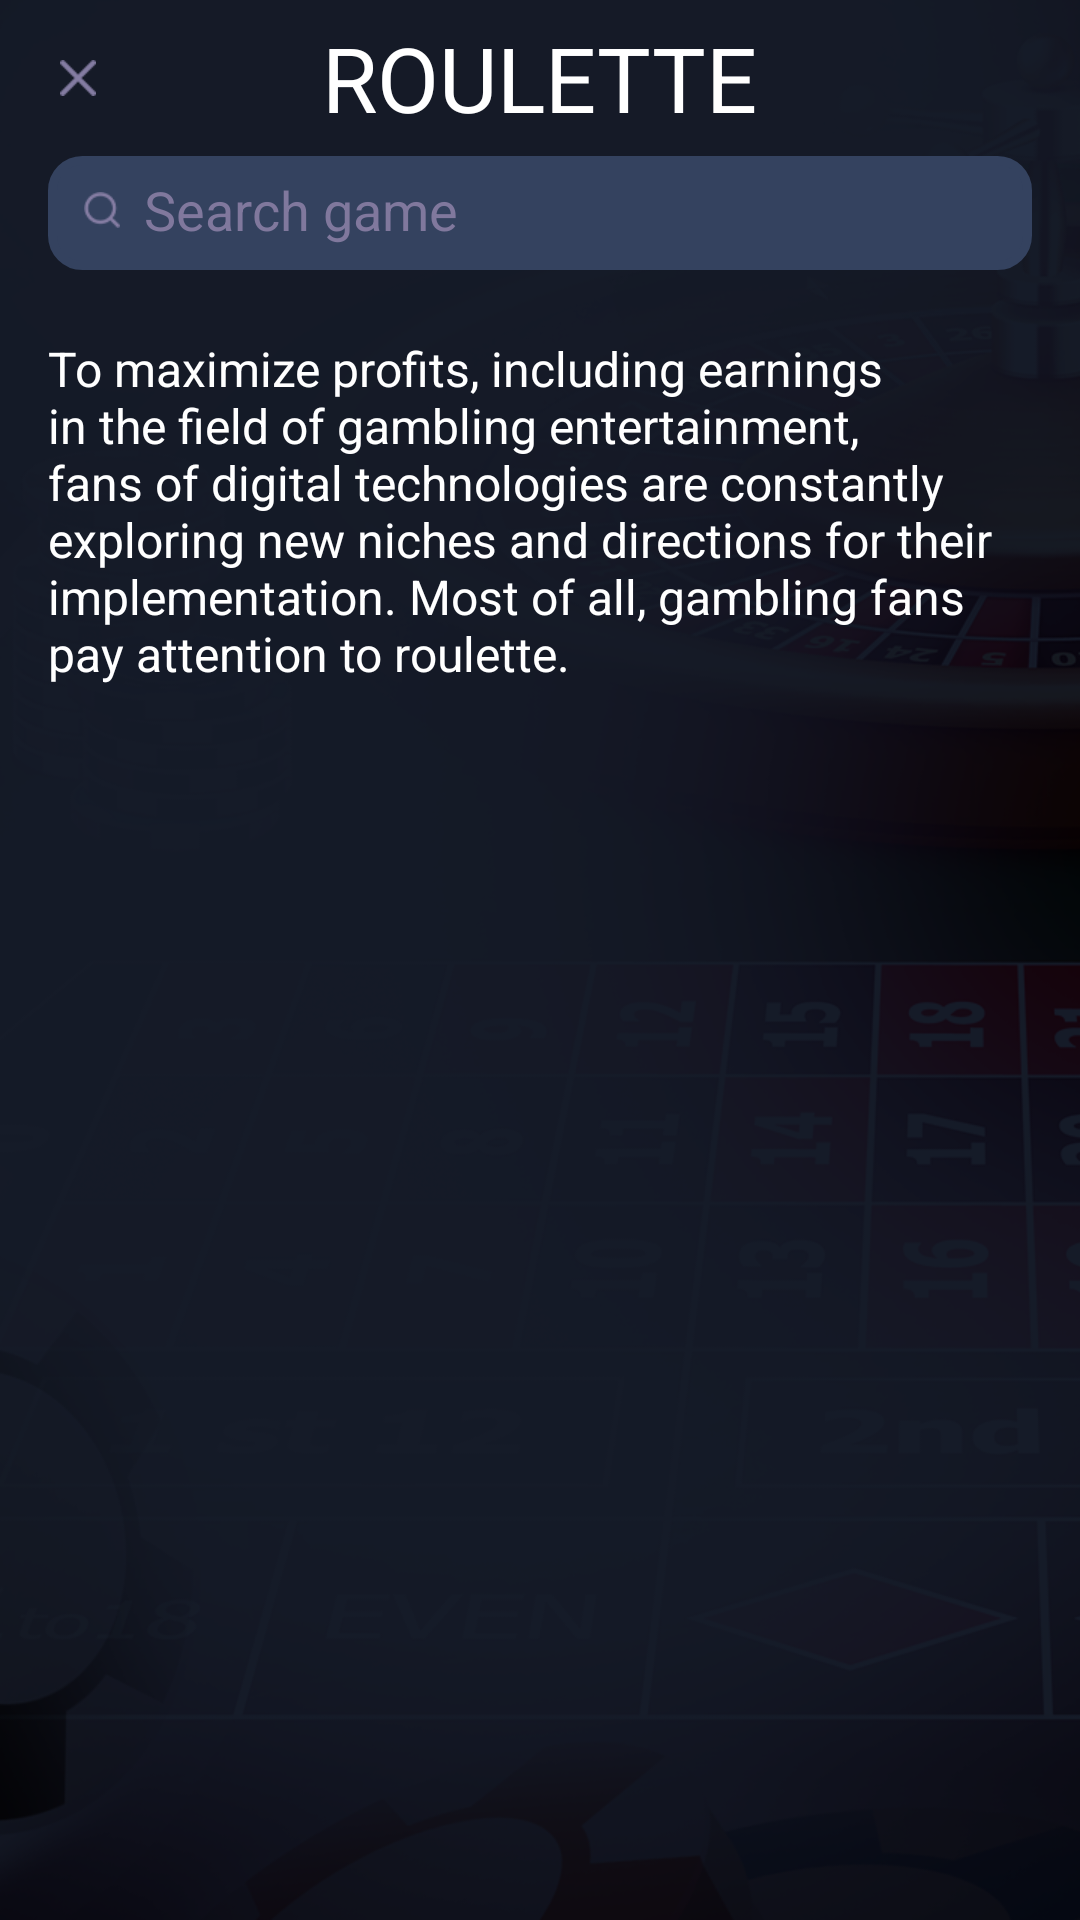

Point at icon controls on the screen. Image size 1080x1920, points as [x,y].
close: [78,78]
